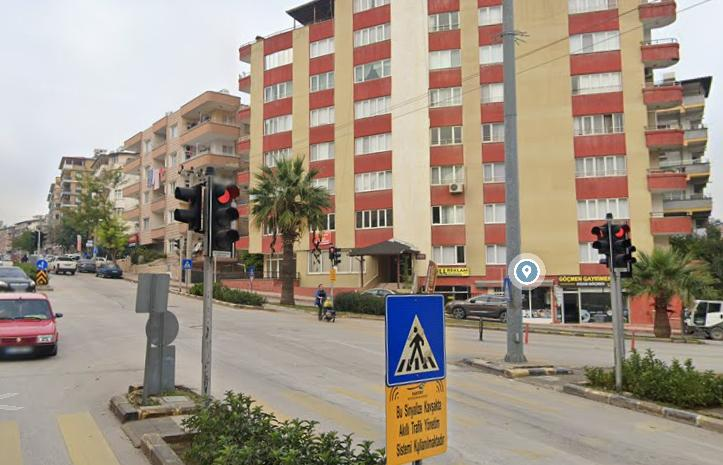redlight: (211, 178, 237, 248), (611, 225, 635, 269)
